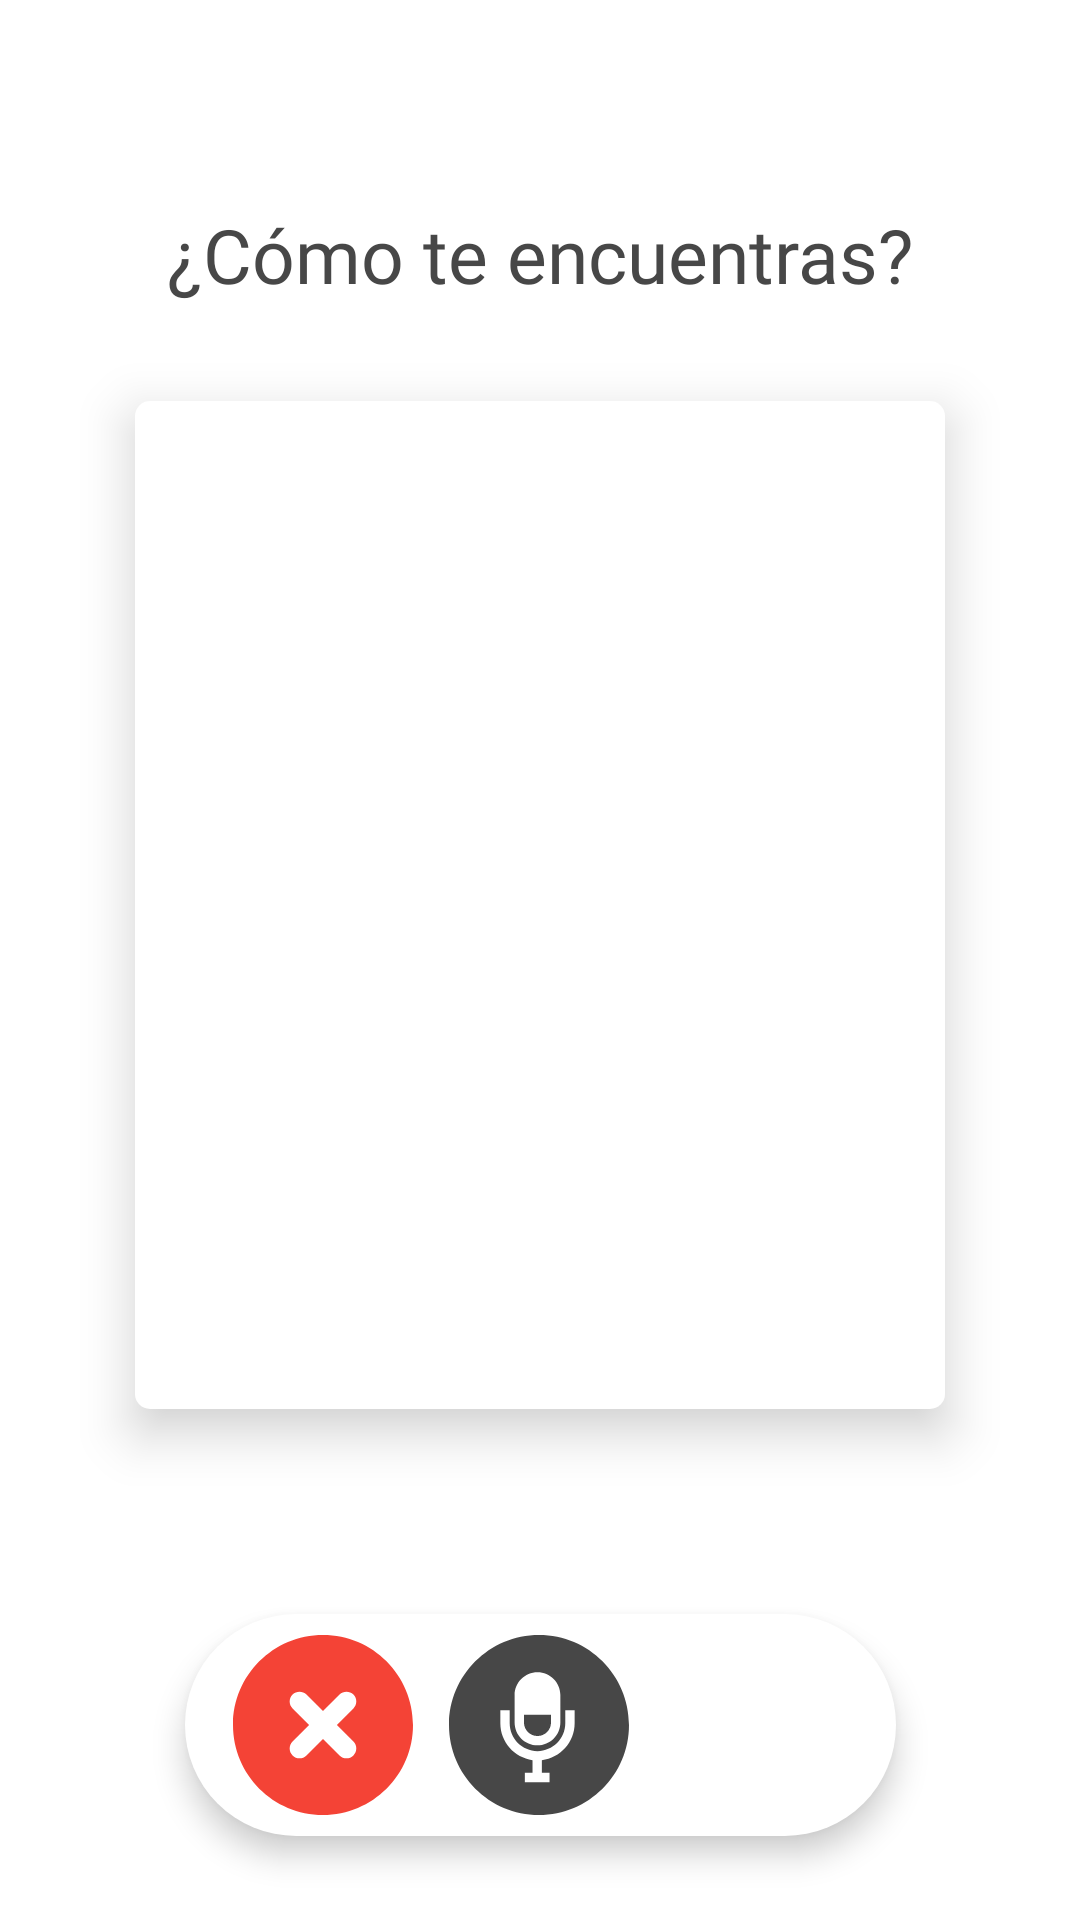

Icons on this 1080×1920 Android screen, each with the point to tap as (x=x, y=y):
delete: (x=323, y=1725)
microphone: (x=539, y=1725)
